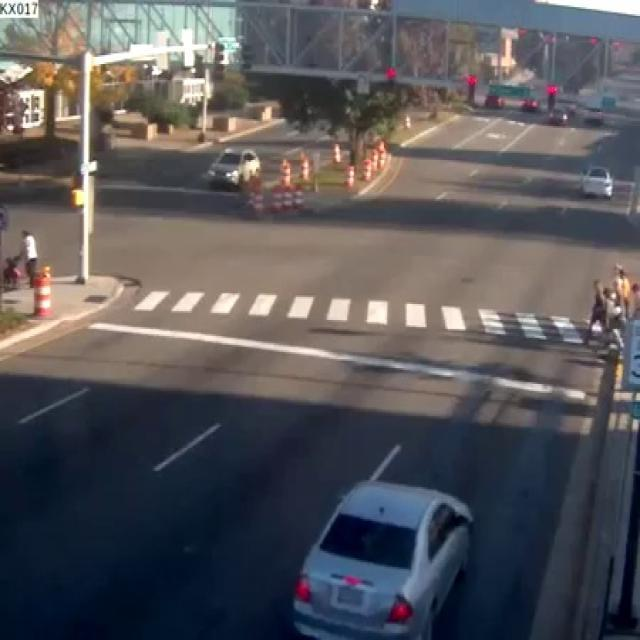car: (292, 445, 470, 636), (204, 146, 259, 185), (580, 164, 609, 196)
red_light: (462, 73, 476, 103), (544, 81, 557, 110), (383, 64, 396, 80)
stop_line: (88, 320, 588, 402)
